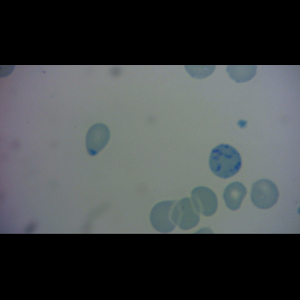aggregate reticulocyte: (208, 143, 244, 180)
erythrocyte: (148, 199, 182, 234), (170, 197, 202, 231), (249, 177, 280, 211), (84, 122, 112, 158), (189, 185, 219, 217), (221, 180, 248, 212)
